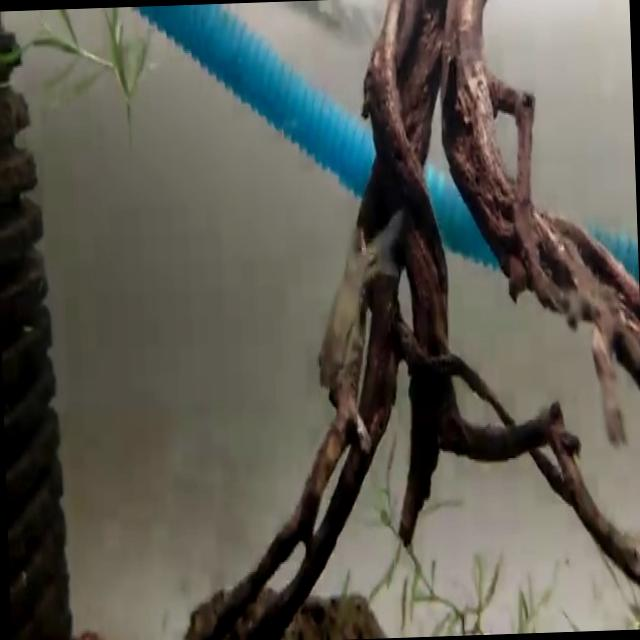Cakil Baligi: (308, 193, 412, 388)
